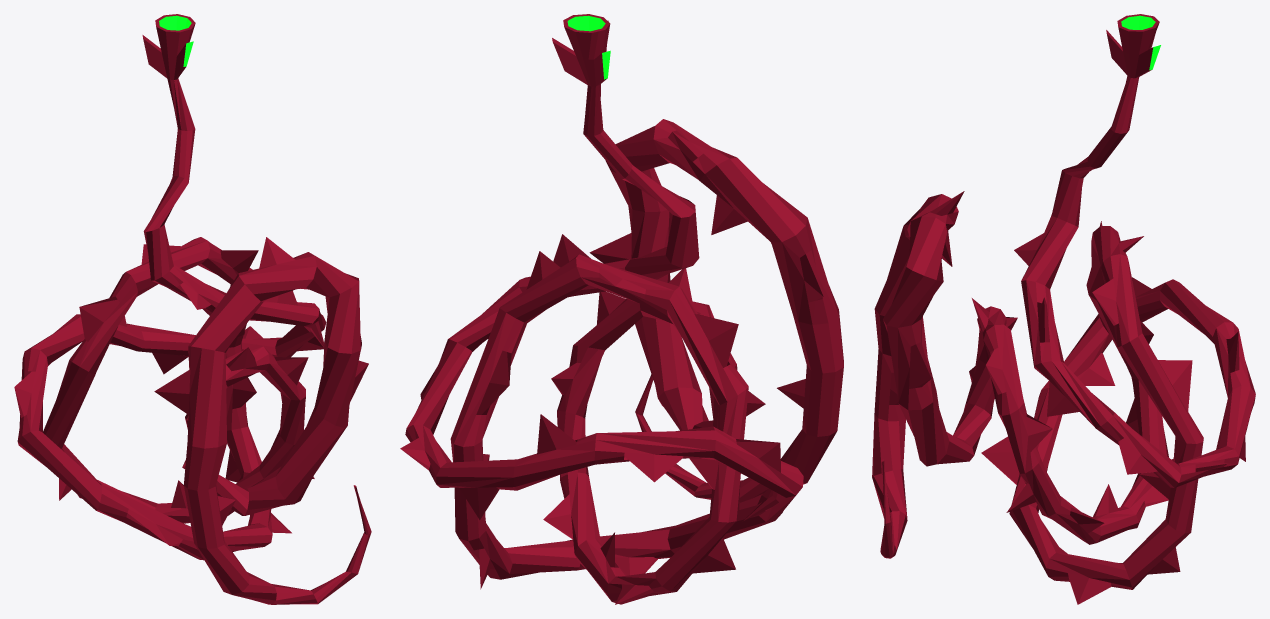
Rendered from NeurolinkViralSpiral.fbx.
3 views of the same model, side by side, from view 1: azimuth 30°, elevation 25°; view 2: azimuth 150°, elevation 25°; view 3: azimuth 270°, elevation 25° (orthographic). The views are drawn at different scales.
Parts seen in each view (by area): view 1: ViralSpiral; view 2: ViralSpiral; view 3: ViralSpiral.
Part boxes in pixels (x1,y1,x2,y2): ViralSpiral: [14, 14, 371, 604]; ViralSpiral: [400, 14, 843, 604]; ViralSpiral: [872, 14, 1255, 604].
Bounding box in the file's own units: 339 × 519 × 336.
